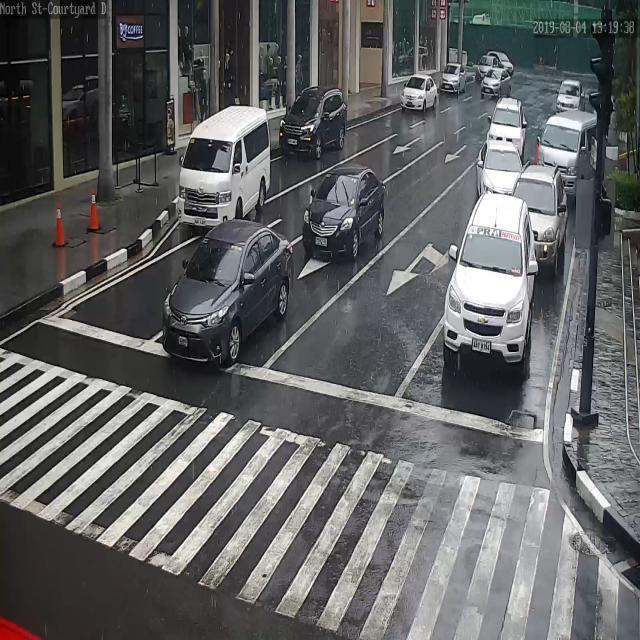car: (164, 224, 295, 367), (444, 191, 537, 374), (305, 166, 386, 265), (512, 164, 567, 278), (279, 88, 349, 160), (487, 96, 527, 165), (477, 137, 523, 197), (400, 73, 439, 113), (439, 62, 472, 94), (480, 68, 512, 100), (555, 78, 585, 111), (481, 50, 517, 77)
van: (178, 103, 270, 226), (536, 112, 599, 190)
